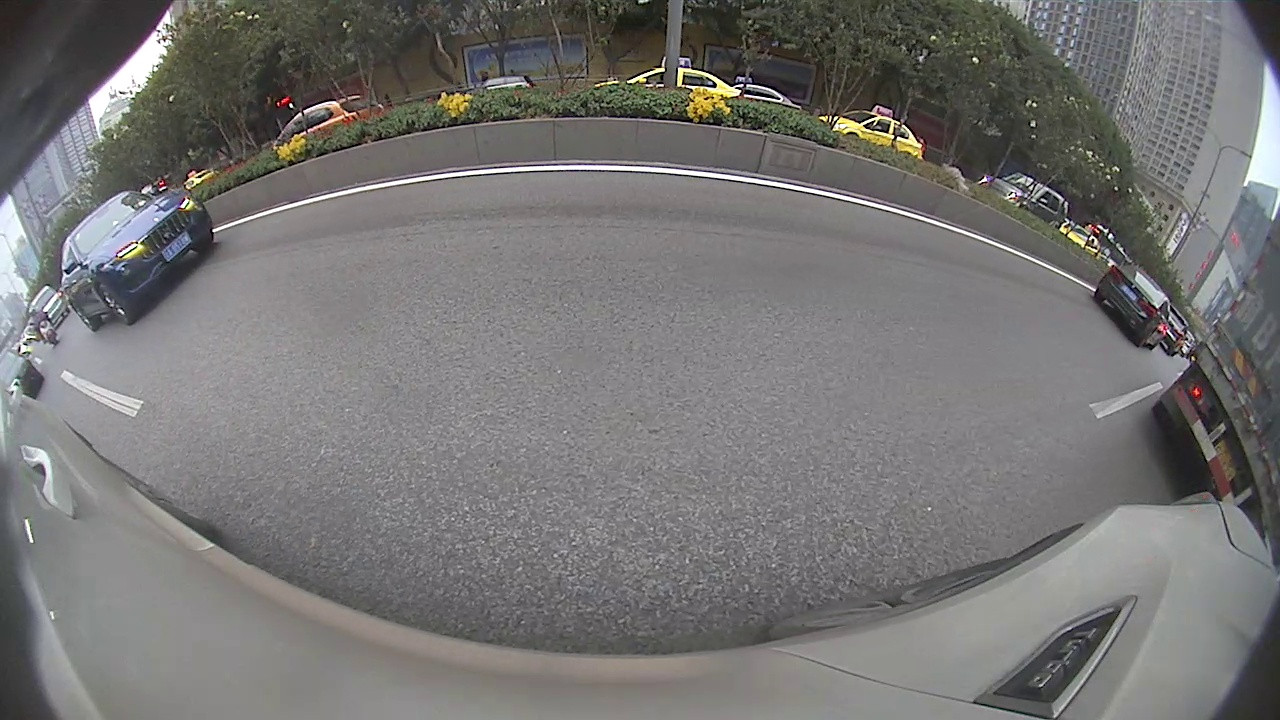car: (59, 186, 216, 335), (1091, 263, 1171, 349)
front: (96, 284, 134, 323)
